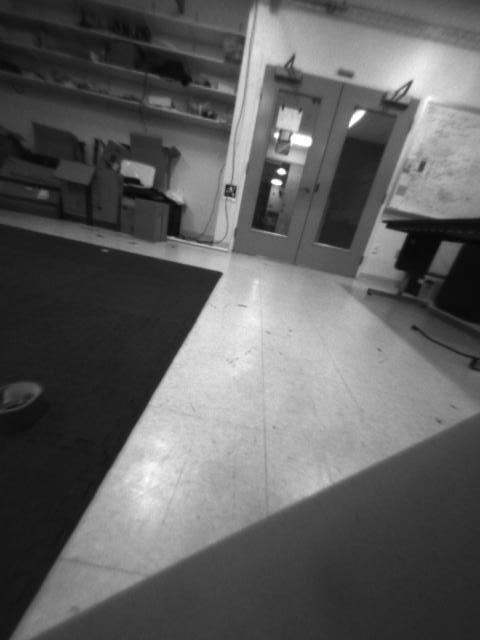dogtoy: (1, 365, 49, 424)
